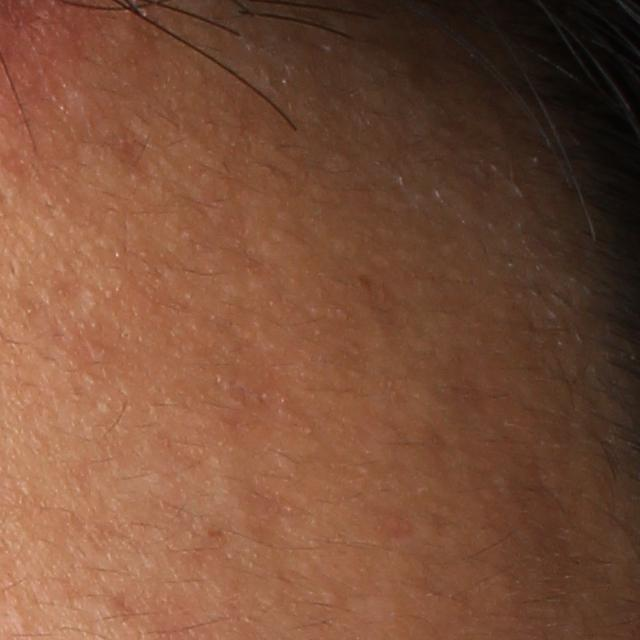comedo: (9, 602, 34, 635)
